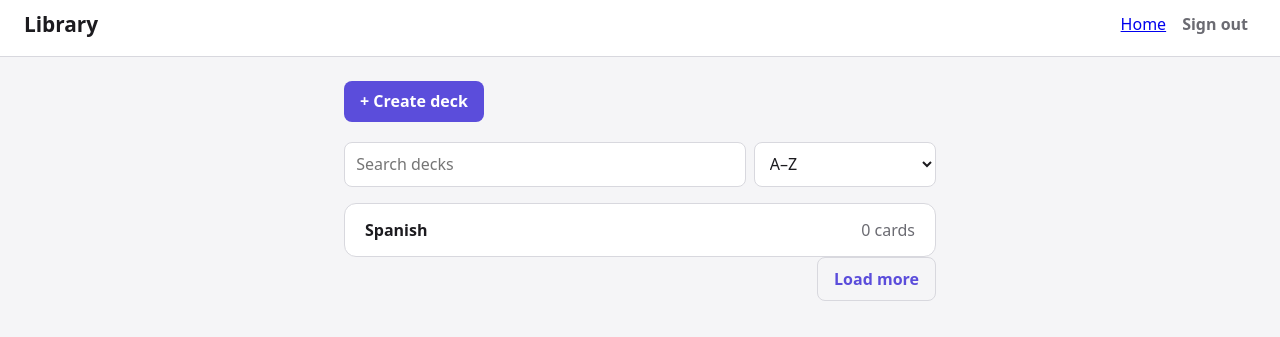
Test: LibraryPage › appends the next page when "Load more" is clicked
This screenshot has width=1280, height=337.
expect the text "Spanish" is shown: met, box [365,219,428,241]
Click the button "Load more".
click(877, 279)  # box [817,257,936,300]
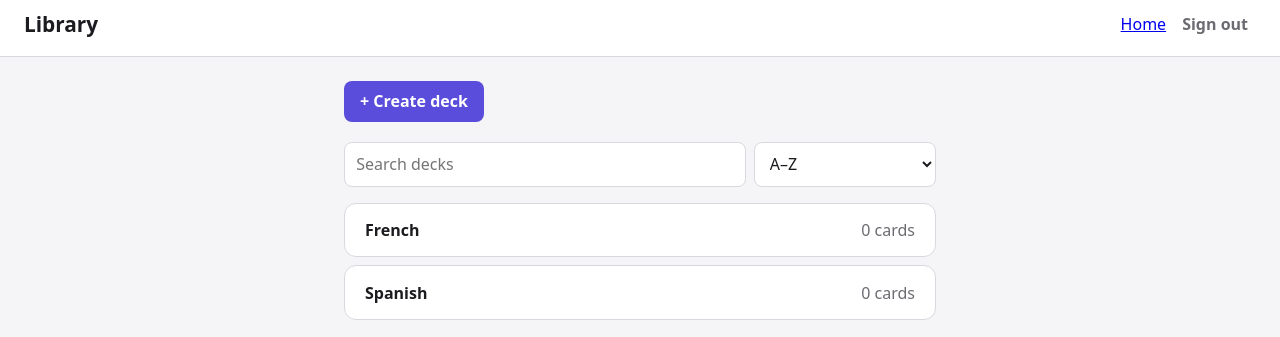
expect the text "Spanish" is shown: met, box [365,282,428,304]
expect the text "French" is shown: met, box [365,219,419,241]
expect the button "Load more" is gone: met
